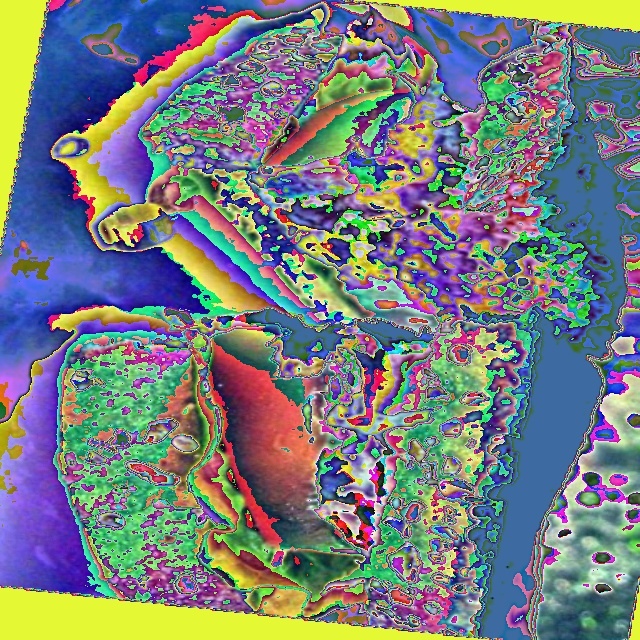background: (55, 0, 626, 640), (99, 79, 199, 252)
